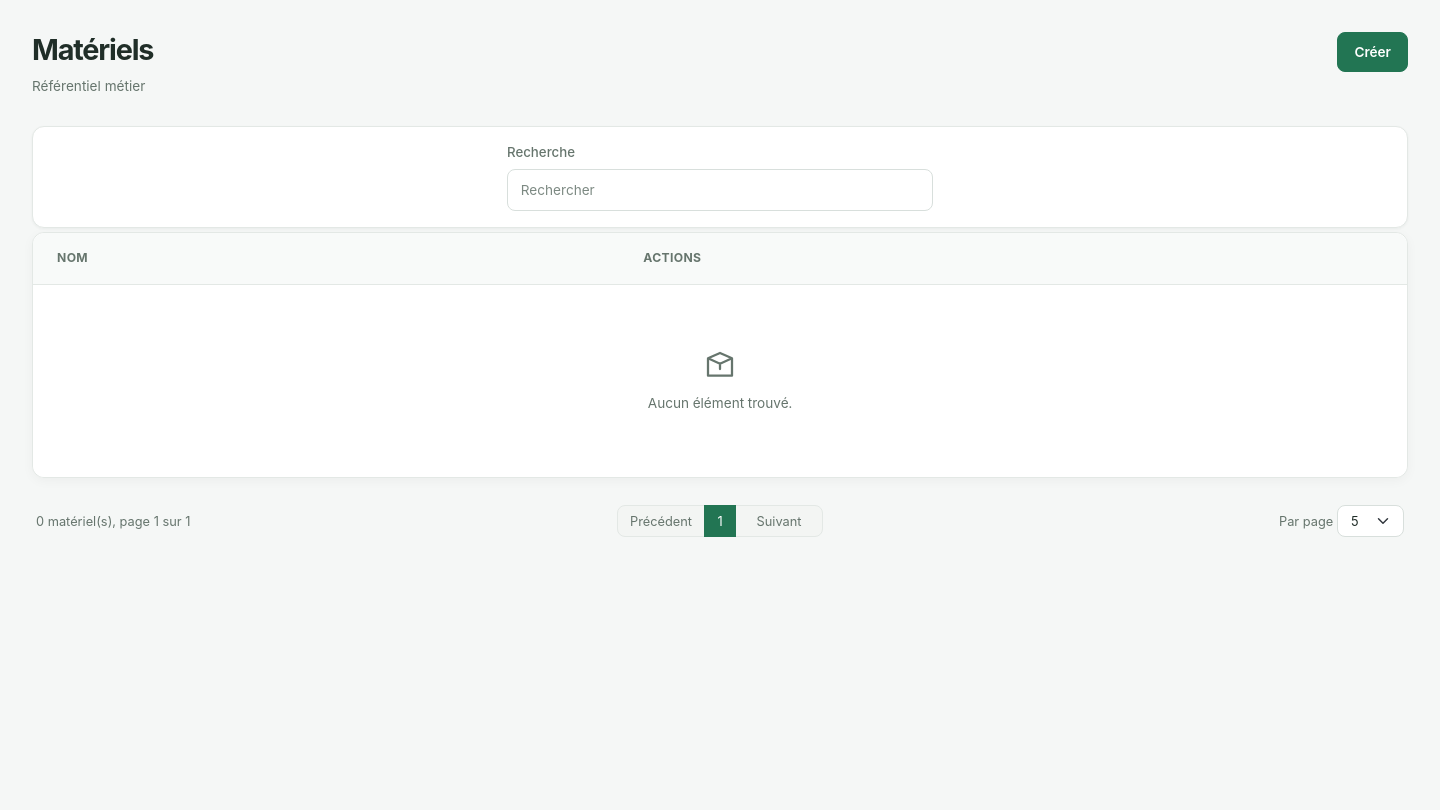
Test: ReferencePage pagination › keeps the material form action visible outside its scrollable fields
Click the button "Créer" at x=1373, y=52, box top-left (1337, 32), bottom-right (1408, 72)
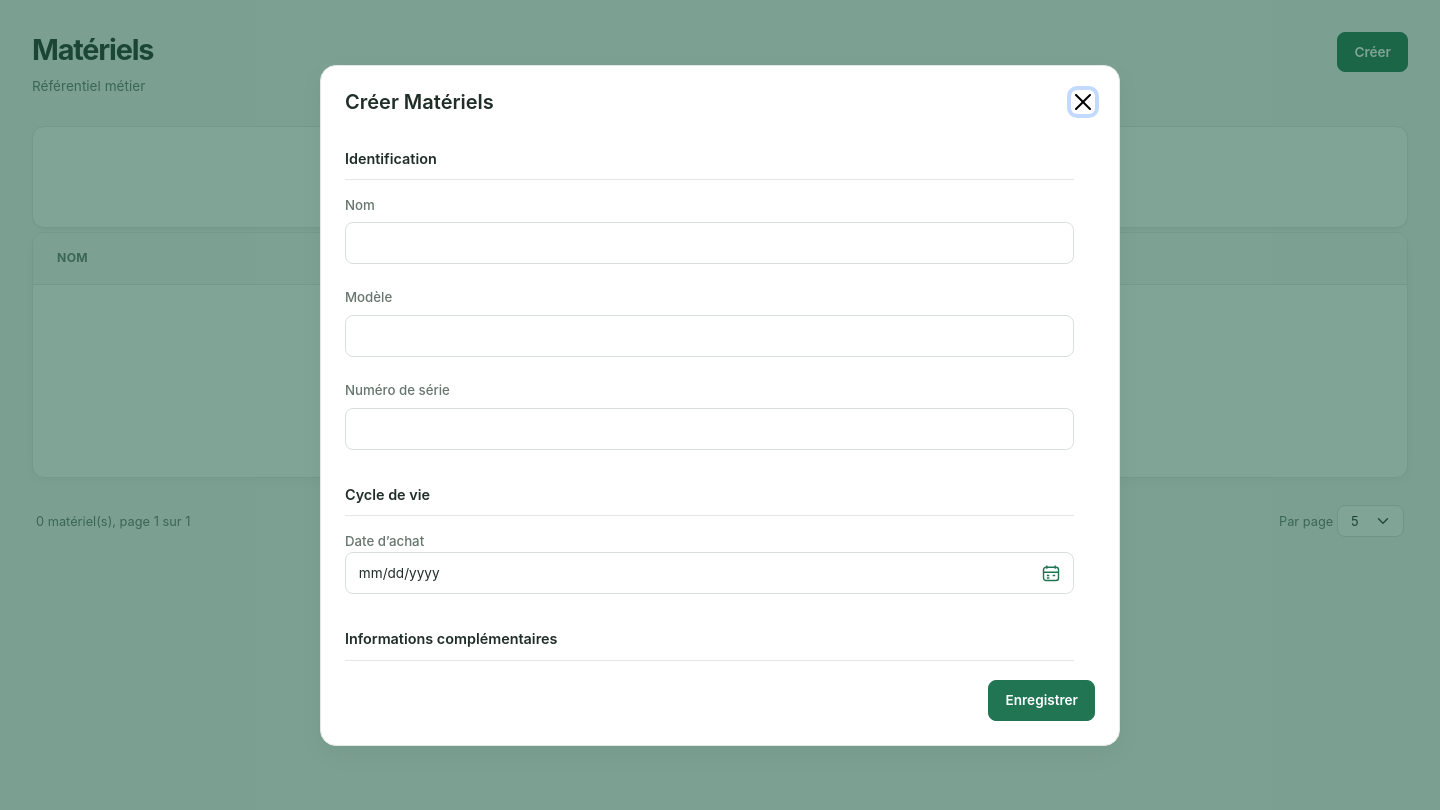
Expected: the element that starts with "Identification" is shown, top-left (345, 138), bottom-right (1095, 664)
